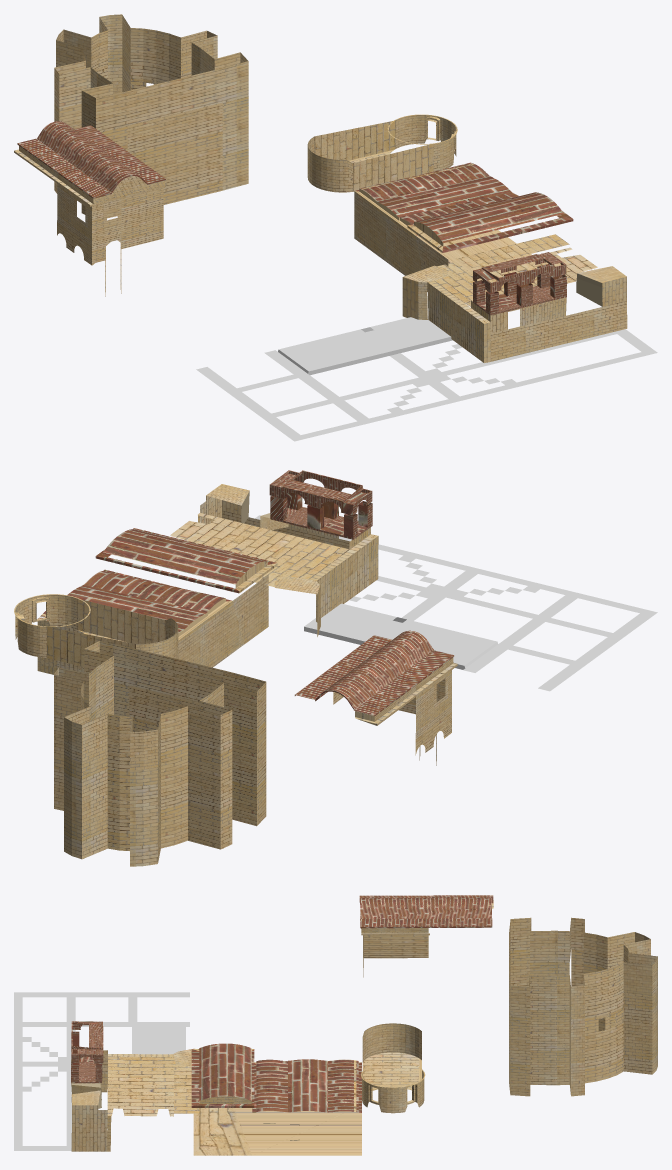
Rendered from catedral19..fbx 1.fbx.
3 renders of one model, top to bottom at view 1: azimuth 30°, elevation 25°; view 2: azimuth 150°, elevation 25°; view 3: azimuth 270°, elevation 25°, orthographic. The views are drawn at different scales.
Parts seen in each view (by area): view 1: Cube.075, oarte baja cam1, Cube.061, Cylinder.005, Plane.004, Cube.011, Cube.040, Cube.034, Plane, medio cam, Cube.006, Cube.041; view 2: Cube.075, Cube.061, Plane.004, Cylinder.005, Cube.040, oarte baja cam1, Cube.011, Cube.006, medio cam, Plane, Cube.034, Cube.041; view 3: Cube.075, Cube.061, Cube.011, Plane.004, Cylinder.005, Cube.006, Cube.040, oarte baja cam1, medio cam, Cube.034, Plane, Cube.041.
Boxes of the visible parts, box(x1,y1,x2,y2) form: Cube.075: box(54, 14, 248, 218); oarte baja cam1: box(402, 265, 627, 362); Cube.061: box(355, 162, 573, 252); Cylinder.005: box(307, 114, 457, 192); Plane.004: box(196, 329, 657, 441); Cube.011: box(354, 164, 531, 302); Cube.040: box(17, 121, 165, 198); Cube.034: box(57, 183, 163, 296); Plane: box(278, 316, 452, 375); medio cam: box(473, 252, 566, 315); Cube.006: box(434, 234, 597, 306); Cube.041: box(14, 146, 165, 206); Cube.075: box(54, 641, 266, 866); Cube.061: box(38, 528, 276, 632); Plane.004: box(255, 515, 657, 691); Cylinder.005: box(14, 594, 178, 666); Cube.040: box(294, 630, 454, 716); oarte baja cam1: box(198, 484, 378, 636); Cube.011: box(37, 561, 277, 674); Cube.006: box(170, 513, 348, 587); medio cam: box(269, 470, 372, 539); Plane: box(304, 603, 497, 669); Cube.034: box(333, 661, 451, 765); Cube.041: box(355, 651, 457, 725); Cube.075: box(509, 917, 657, 1096); Cube.061: box(191, 1043, 361, 1112); Cube.011: box(192, 1049, 361, 1155); Plane.004: box(14, 992, 189, 1150); Cylinder.005: box(361, 1023, 425, 1113); Cube.006: box(107, 1056, 199, 1116); Cube.040: box(359, 895, 493, 928); oarte baja cam1: box(71, 1048, 194, 1151); medio cam: box(71, 1021, 103, 1083); Cube.034: box(363, 935, 428, 977); Plane: box(132, 1025, 185, 1054); Cube.041: box(361, 900, 493, 935).
Size of the model in its own units: 20545 by 6170 by 32815.
